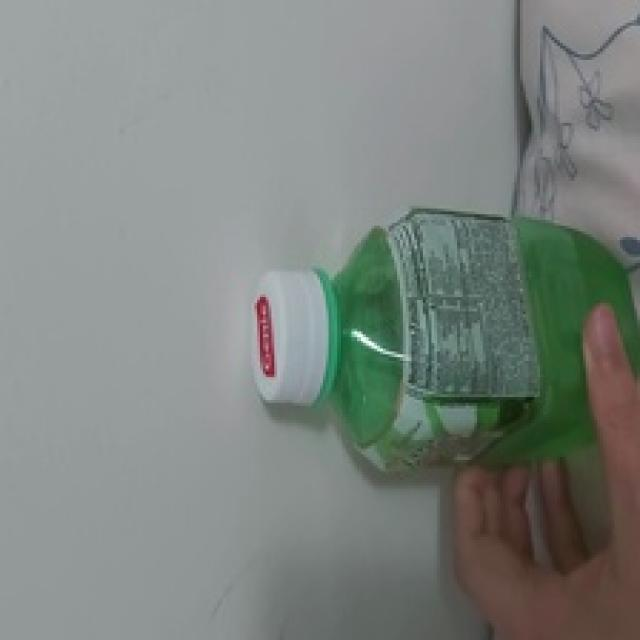plastic_bottle: (250, 205, 640, 475)
